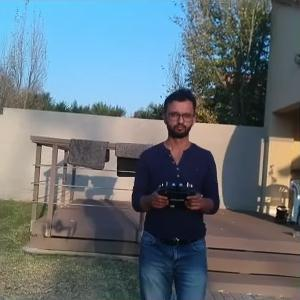follow: (125, 80, 220, 298)
